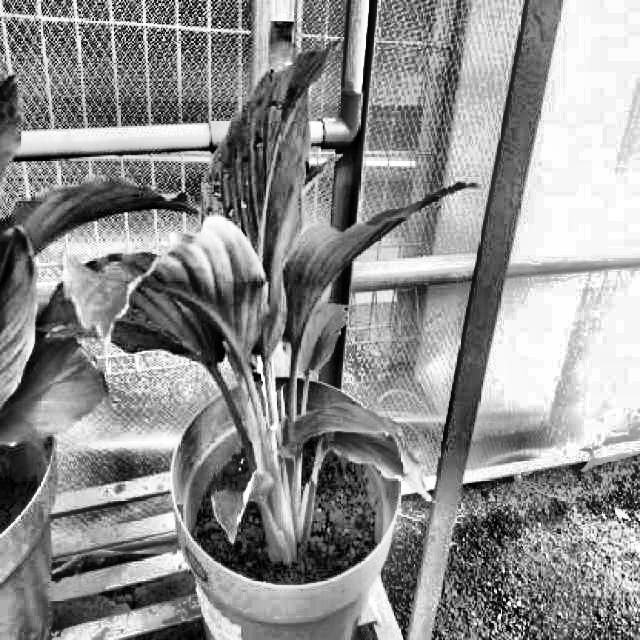plants: (121, 37, 478, 576), (0, 72, 202, 452)
